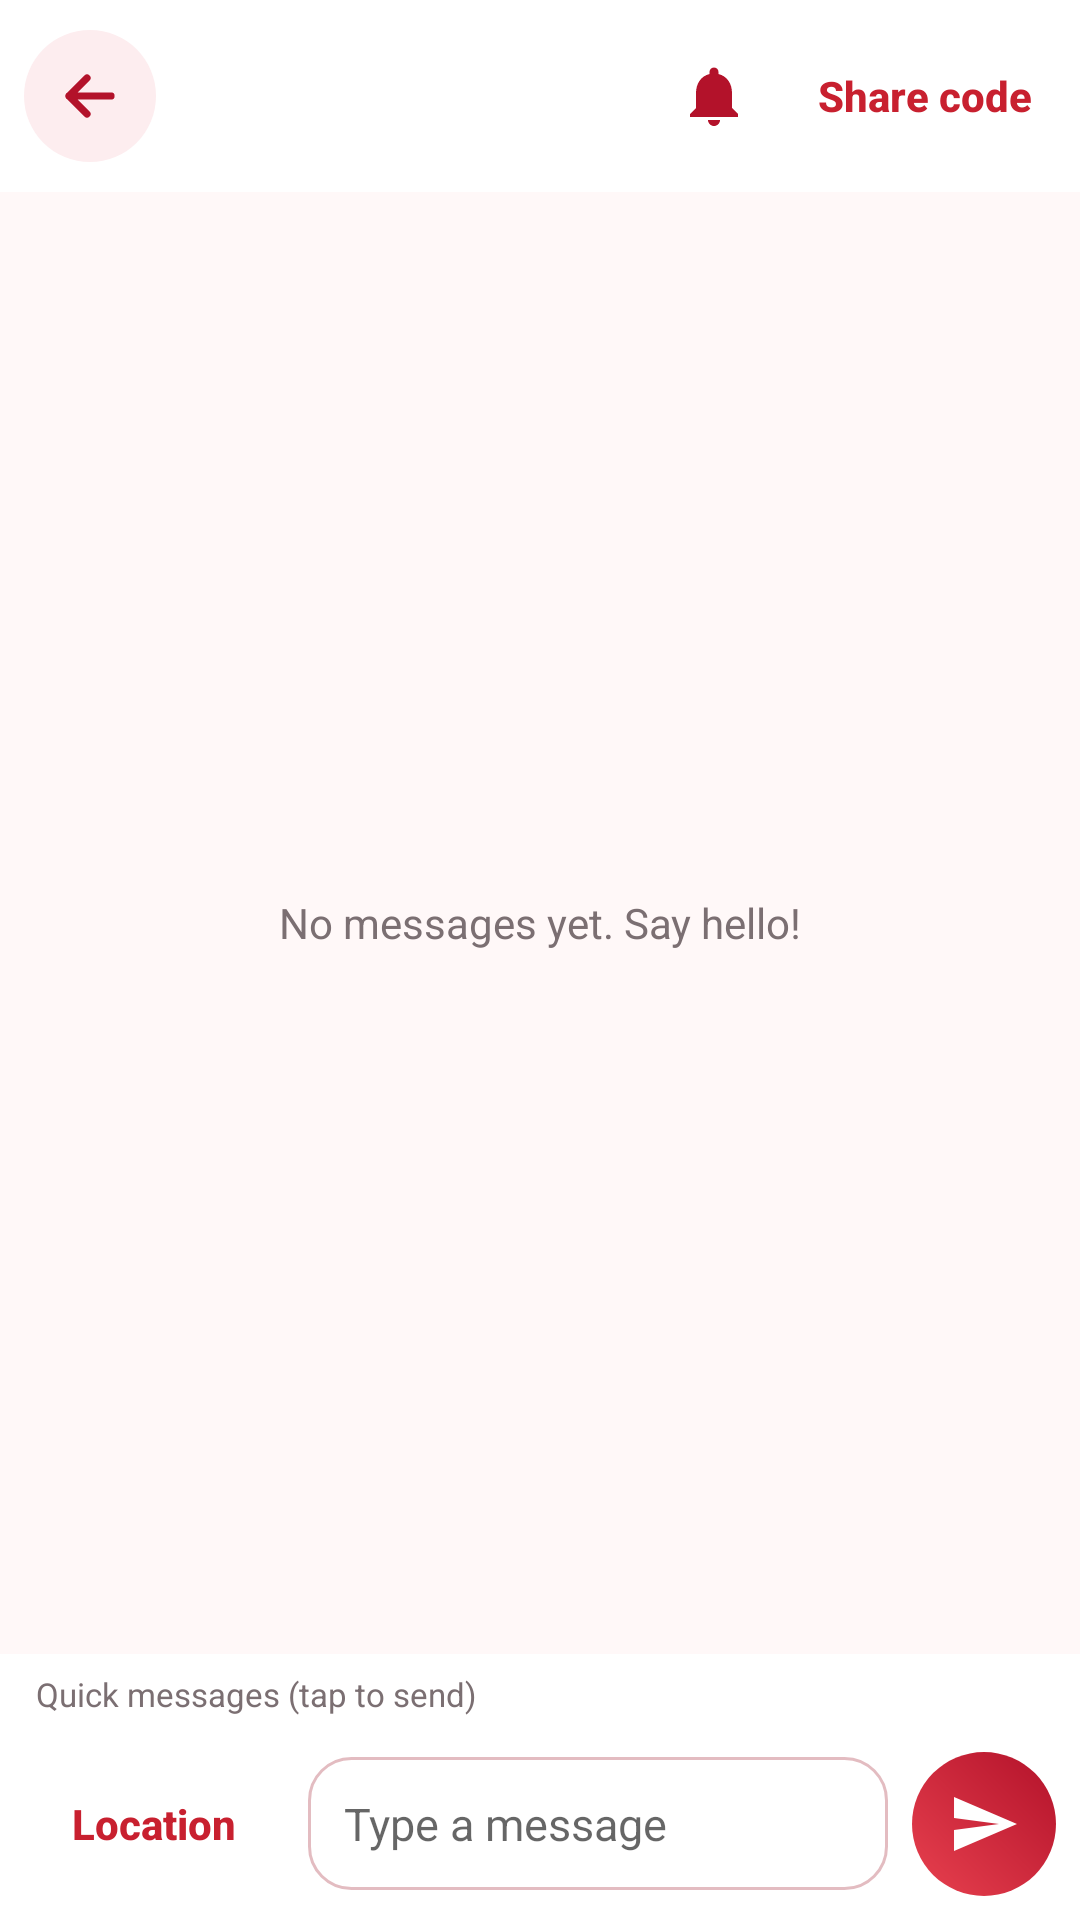

Named icons in this screenshot (1080*1920) and their centers, (x=x, y=y):
Back: (x=90, y=96)
Mute notifications: (x=714, y=96)
Send: (x=984, y=1824)
